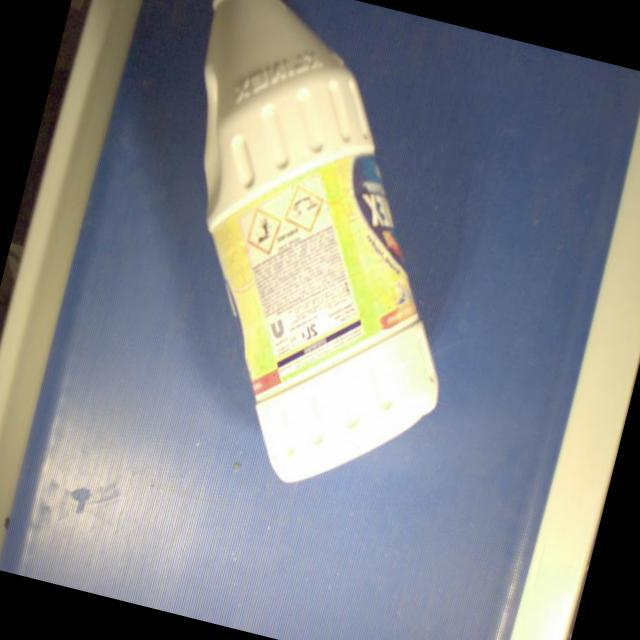HDPE Plastic: (191, 2, 445, 490)
